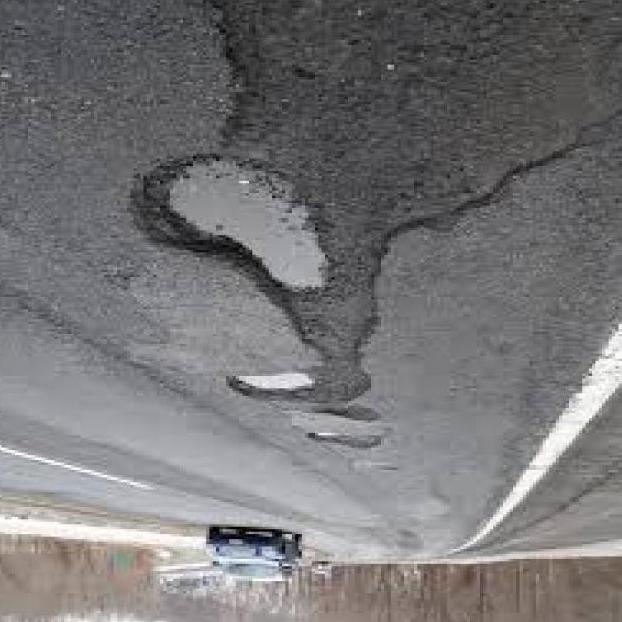pothole: (128, 150, 340, 314), (225, 367, 319, 406), (304, 424, 372, 456)
